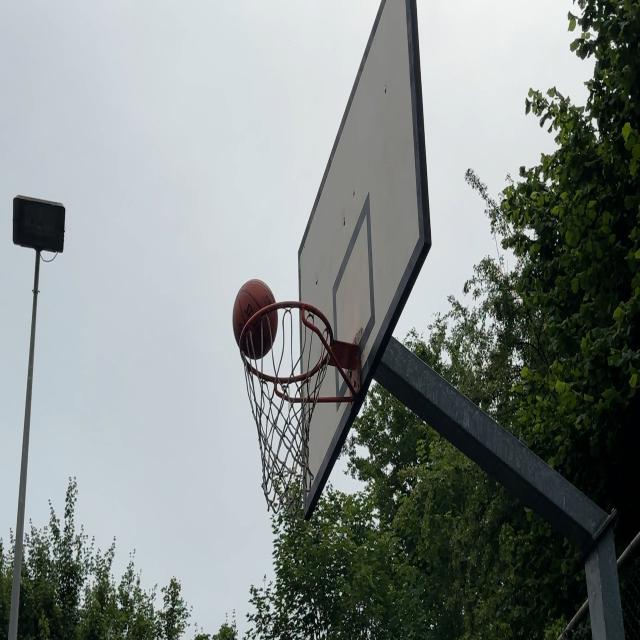rebound_hit: (234, 278, 278, 360)
